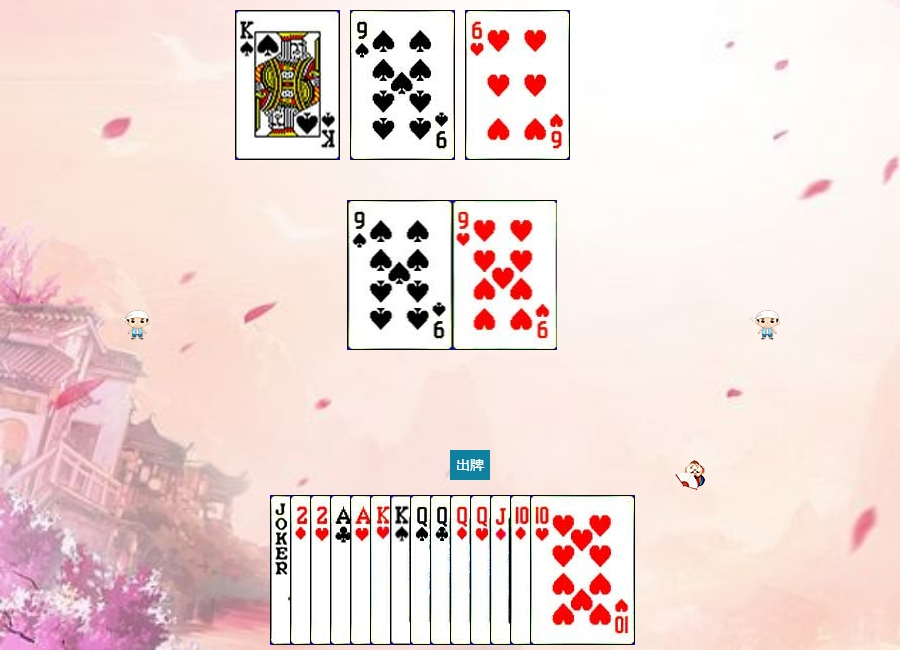10~1: (510, 495, 615, 645)
10~3: (530, 495, 635, 645)
11~1: (490, 495, 595, 645)
12~1: (450, 495, 555, 645)
12~2: (430, 495, 535, 645)
12~3: (470, 495, 575, 645)
12~4: (410, 495, 515, 645)
13~3: (370, 495, 475, 645)
13~4: (235, 10, 340, 160), (390, 495, 495, 645)
14~2: (330, 495, 435, 645)
14~3: (350, 495, 455, 645)
15~1: (290, 495, 395, 645)
15~3: (310, 495, 415, 645)
17~3: (270, 495, 375, 645)
6~3: (465, 10, 570, 160)
9~3: (453, 200, 558, 350)
9~4: (350, 10, 455, 160), (348, 200, 453, 350)
